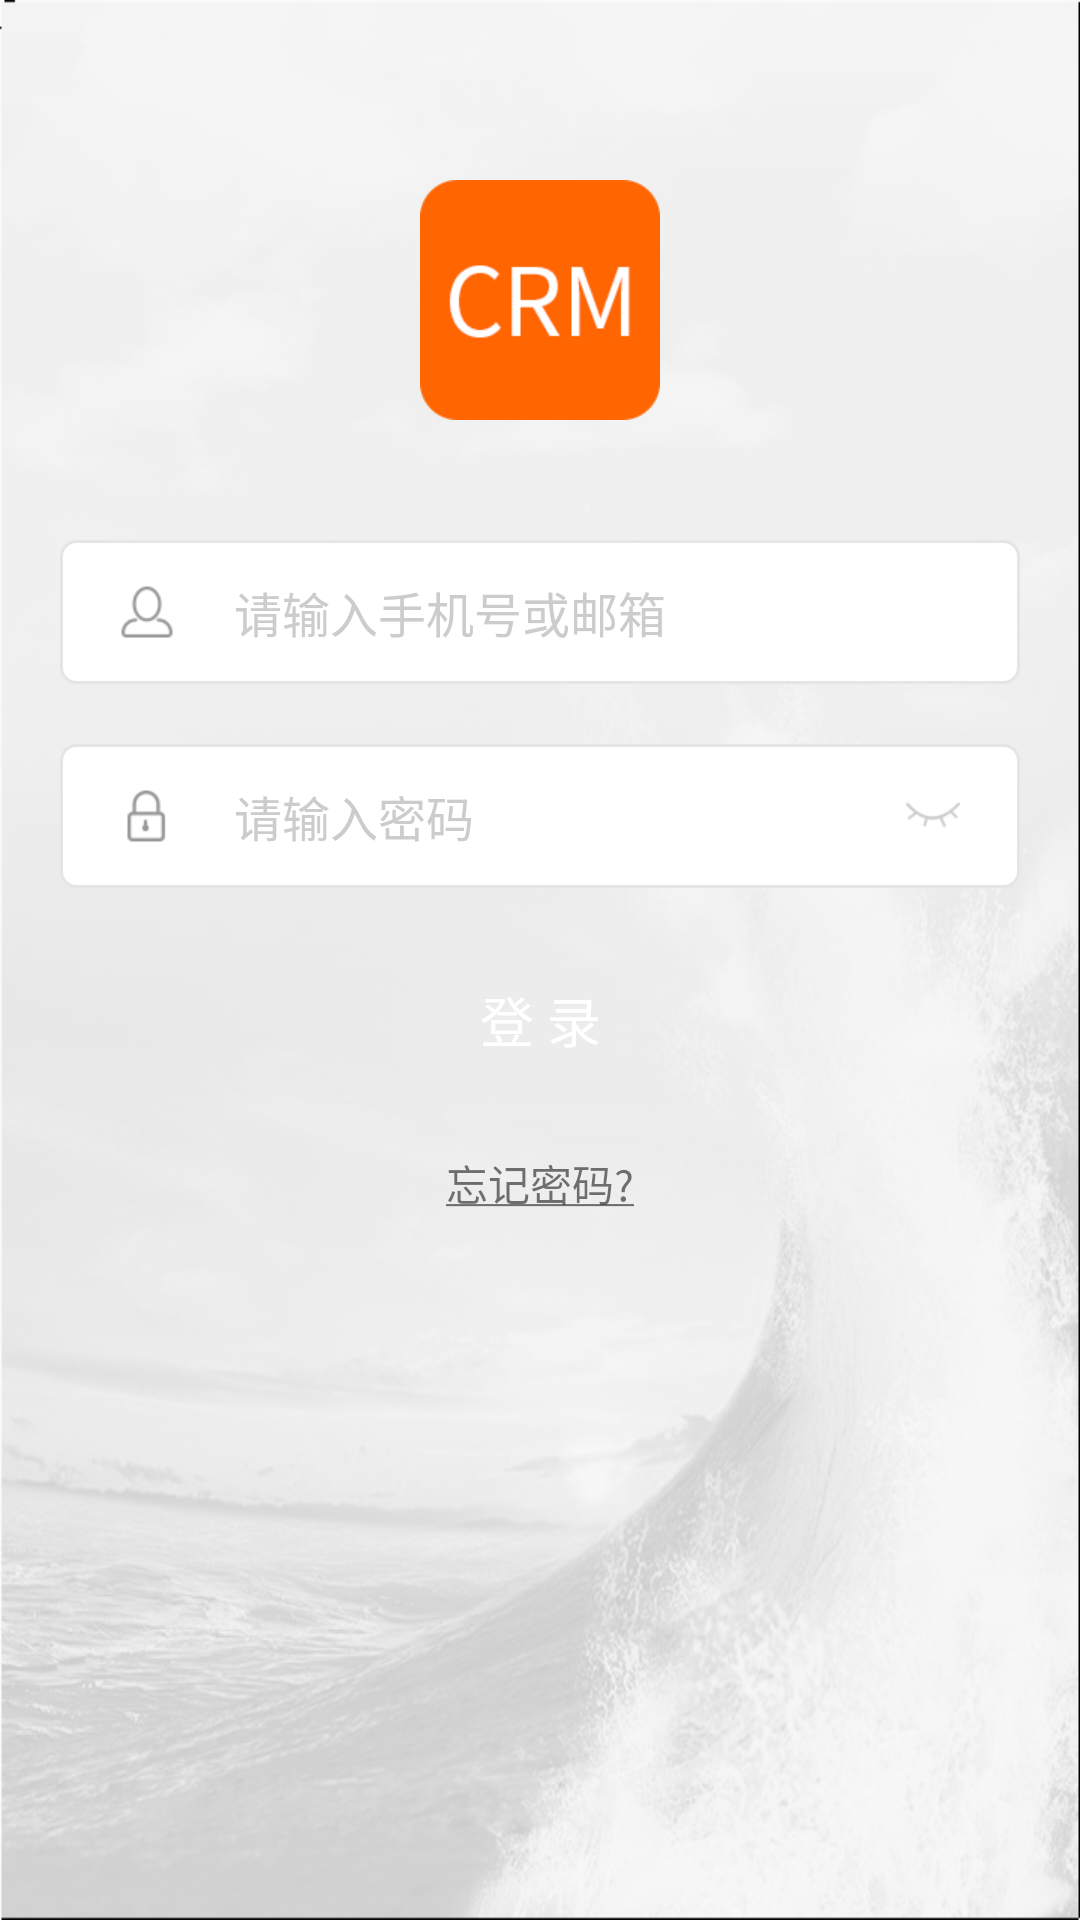

Named icons in this screenshot (1080w x 1920h) and their centers, [x,y]:
hide pwd: [933,815]
login lock: [146,816]
login user: [147,612]
